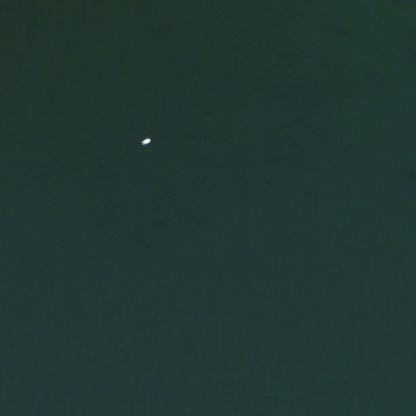ship: (120, 136, 136, 146)
